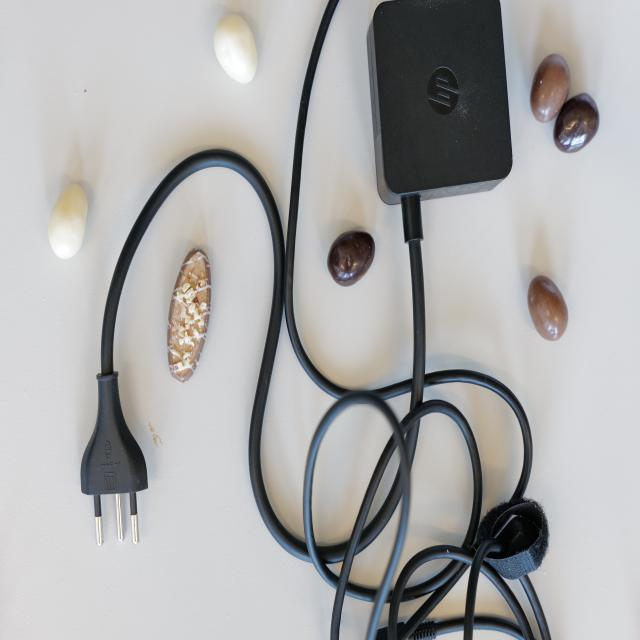Amandina: (167, 249, 212, 383)
Jelly_Black: (553, 92, 600, 154), (326, 230, 376, 287)
Jelly_Milk: (528, 275, 570, 343), (530, 53, 570, 122)
Jelly_White: (47, 184, 88, 261), (214, 14, 258, 85)
